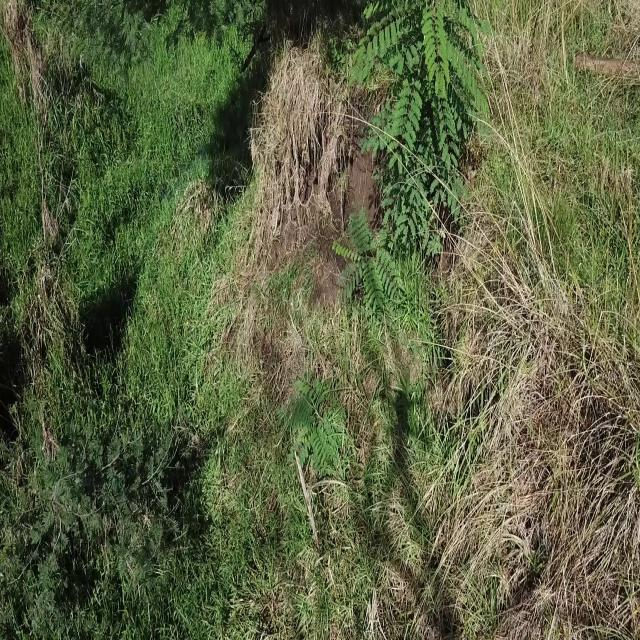Mysore-Thorn-Weed: (345, 0, 480, 251), (332, 206, 420, 315), (285, 362, 352, 476)
